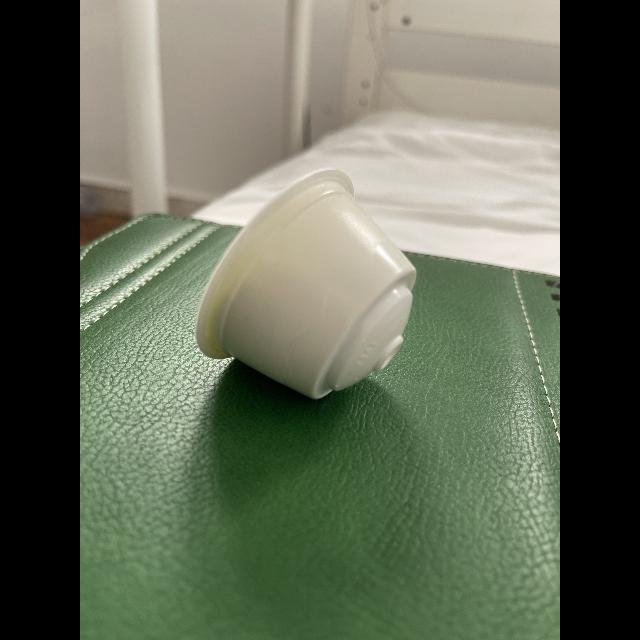intact_capsule: (186, 161, 426, 419)
